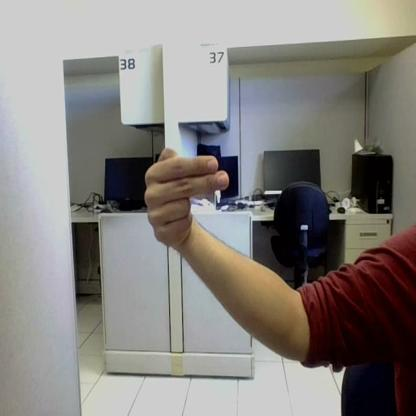H: (145, 148, 228, 246)
